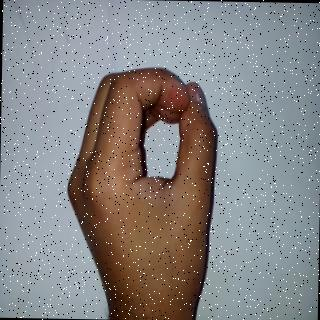O: (50, 59, 230, 274)
